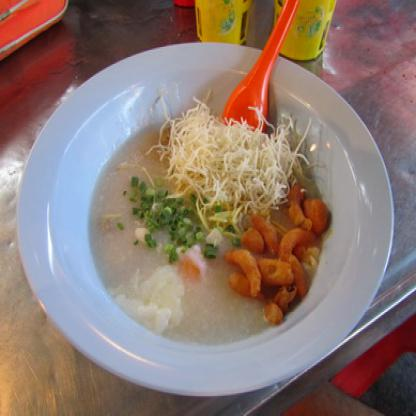Joke: (84, 67, 362, 396)
